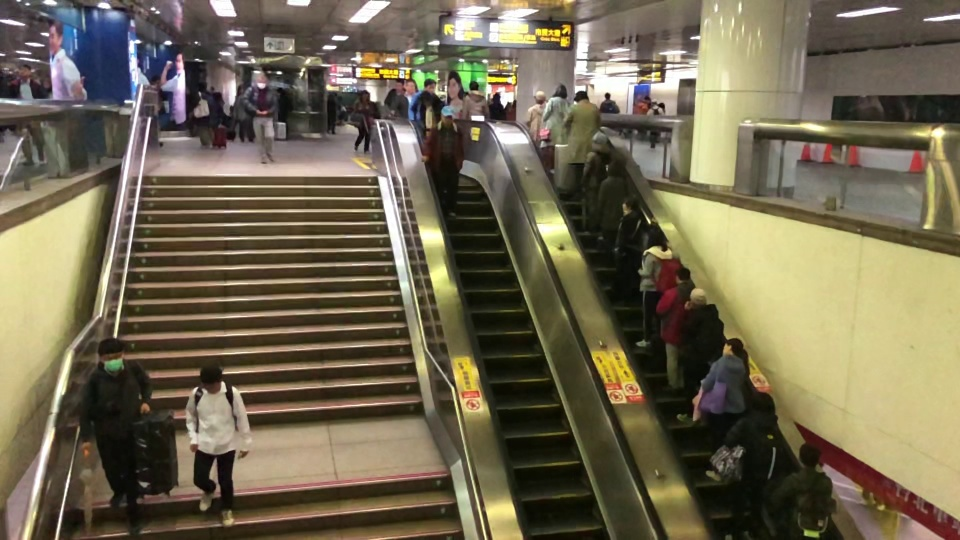person_head: (745, 389, 778, 425), (95, 337, 123, 373), (198, 363, 223, 394), (793, 443, 822, 467), (720, 336, 744, 360), (687, 287, 709, 308), (589, 129, 609, 151), (646, 223, 665, 246), (606, 158, 626, 179), (571, 88, 591, 108), (253, 71, 270, 92), (440, 104, 454, 127), (622, 195, 638, 215), (401, 76, 417, 94), (17, 61, 32, 80), (550, 86, 569, 101), (356, 86, 372, 103), (673, 268, 692, 282), (419, 90, 433, 109), (422, 77, 435, 94), (194, 77, 208, 92), (389, 77, 403, 92), (532, 88, 545, 104), (150, 74, 161, 89), (234, 82, 245, 96), (467, 79, 479, 91), (41, 76, 51, 90), (491, 91, 501, 104), (603, 90, 613, 102), (649, 98, 658, 110), (276, 85, 285, 96), (326, 93, 335, 102), (642, 95, 650, 104), (510, 99, 517, 109)
person_vbox: (78, 337, 153, 538), (184, 363, 251, 531), (721, 389, 790, 540), (700, 336, 750, 482), (672, 287, 724, 423), (766, 442, 834, 540), (638, 221, 684, 338), (653, 268, 699, 385), (420, 104, 466, 218), (7, 59, 47, 165), (245, 72, 287, 163), (567, 88, 603, 188), (582, 128, 613, 236), (540, 87, 574, 175), (595, 157, 630, 236), (182, 76, 217, 150), (346, 85, 376, 152), (614, 194, 642, 263), (407, 77, 444, 121), (523, 88, 546, 147), (150, 73, 167, 147), (460, 79, 489, 119), (230, 82, 249, 141), (642, 98, 663, 150), (398, 75, 420, 121), (382, 75, 403, 121), (419, 90, 441, 130), (275, 85, 290, 141), (632, 95, 650, 141), (487, 91, 506, 120), (597, 90, 620, 112), (325, 93, 337, 135), (37, 76, 52, 99), (506, 99, 518, 121)
